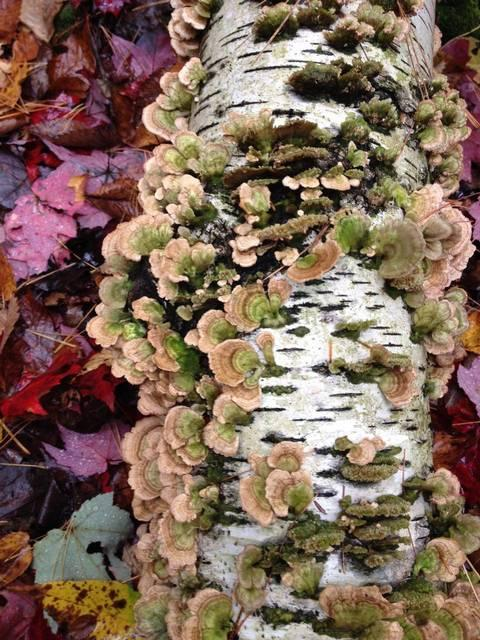Non-edible Mushroom: (85, 0, 479, 639)
